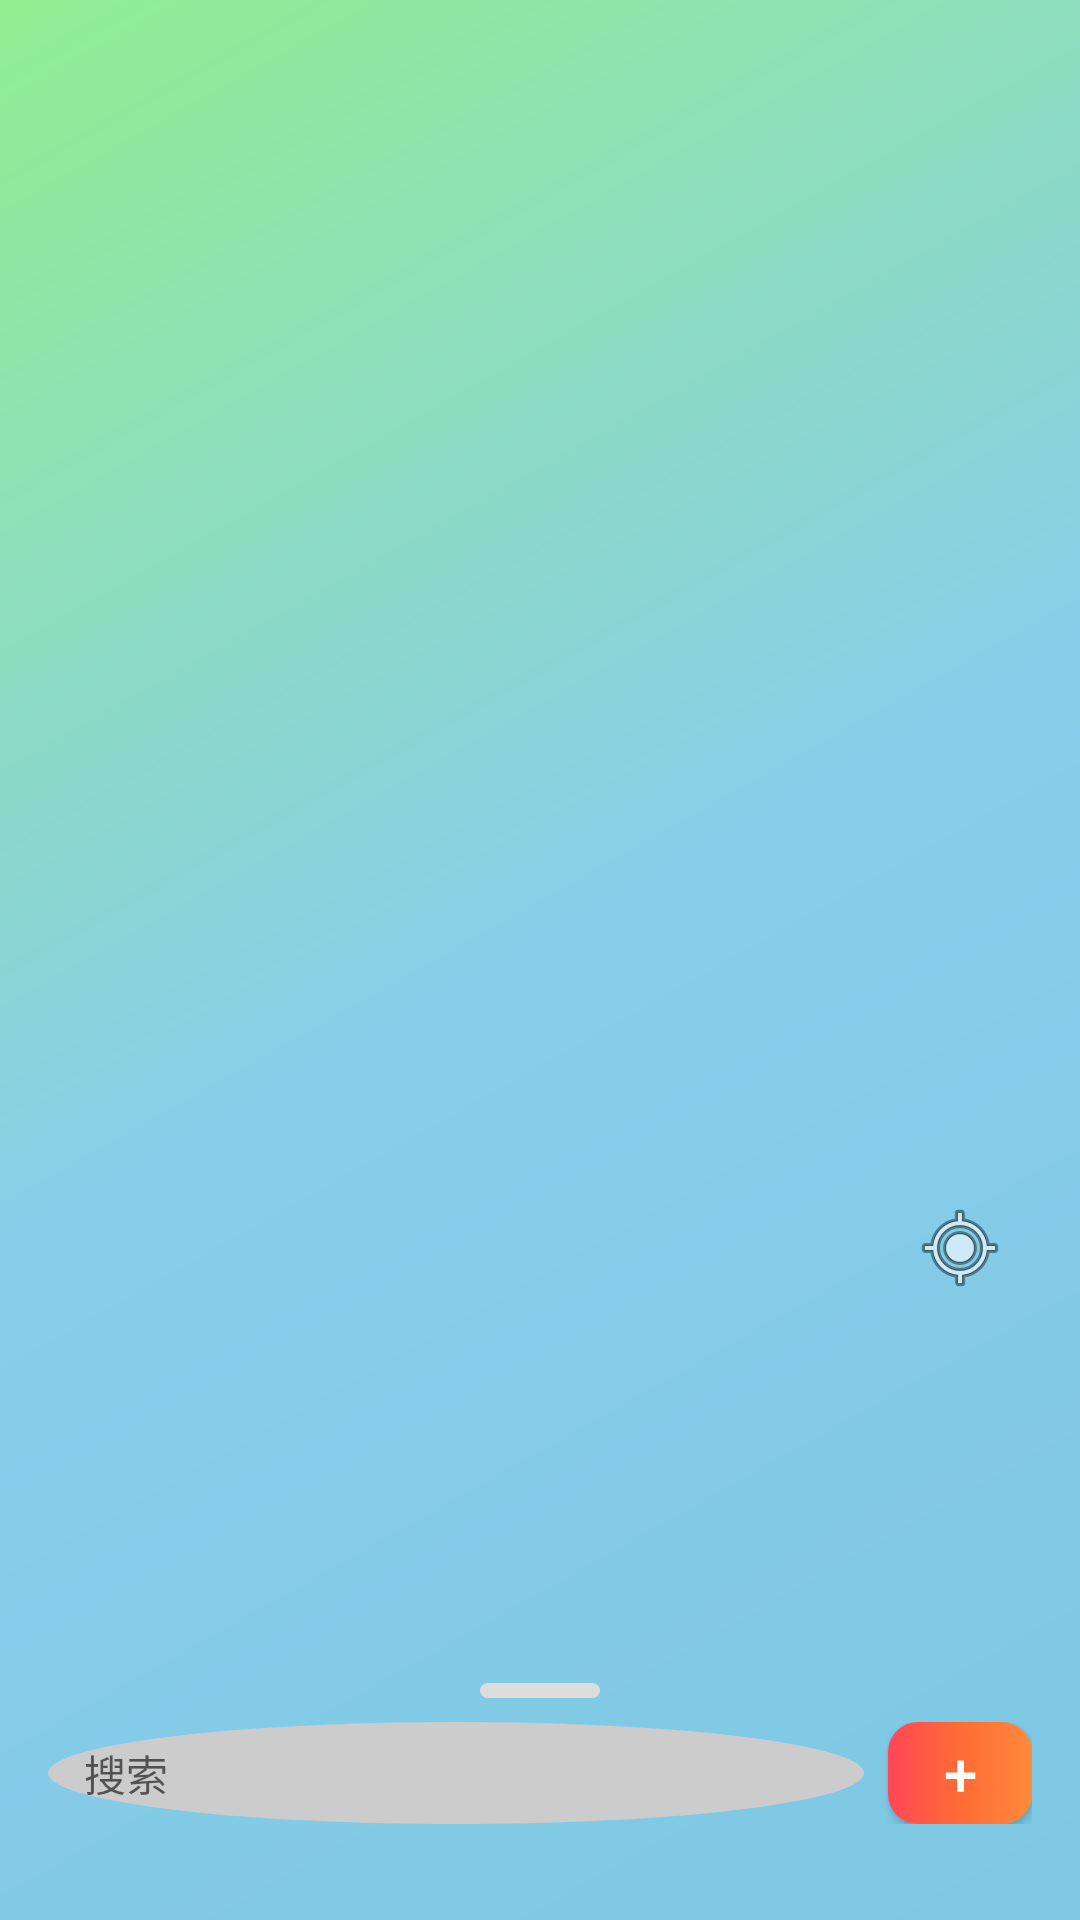

Point at icon controls on the screen. Image size 1080x1920, points as point (x, y).
定位: point (960, 1248)
